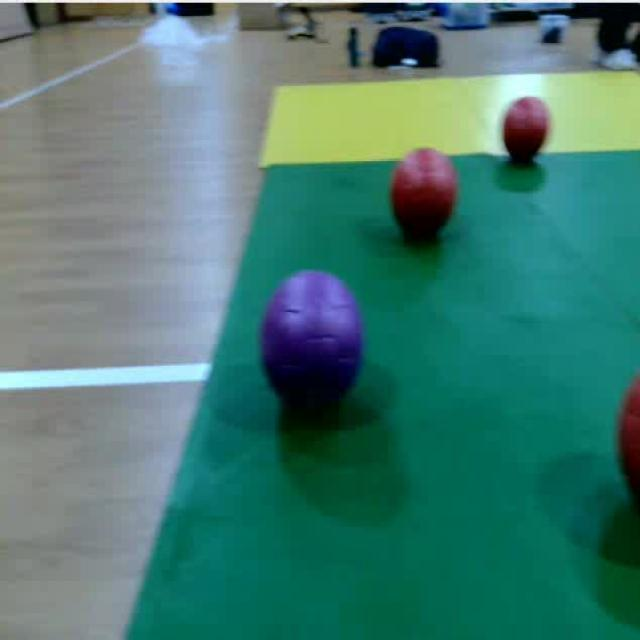purple_ball: (256, 264, 370, 420)
red_ball: (383, 142, 463, 250), (500, 94, 552, 170)
